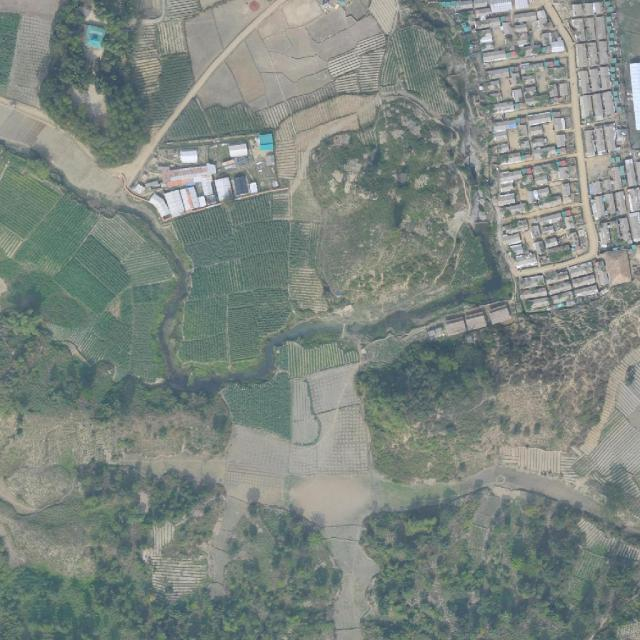agricultural_land: (191, 0, 386, 158), (173, 192, 328, 364), (254, 64, 389, 188), (203, 423, 295, 602), (367, 16, 482, 122), (126, 0, 202, 130), (289, 364, 369, 474), (162, 0, 273, 79), (469, 457, 606, 517), (0, 0, 59, 108), (329, 283, 465, 326), (359, 312, 448, 371), (323, 33, 398, 100), (259, 80, 341, 132), (258, 81, 341, 132), (496, 436, 582, 483), (279, 341, 359, 381), (184, 9, 229, 79), (372, 475, 445, 518), (460, 491, 504, 562), (356, 304, 436, 343), (162, 97, 212, 143), (270, 316, 342, 346), (204, 102, 265, 137), (318, 385, 357, 429), (0, 11, 20, 93), (500, 447, 561, 472), (571, 548, 609, 588), (290, 178, 322, 223), (368, 0, 398, 35), (443, 484, 496, 497), (271, 193, 292, 220), (284, 475, 300, 506), (448, 476, 463, 488), (340, 322, 347, 337)
building: (483, 7, 585, 270), (137, 126, 284, 221), (516, 262, 601, 316), (423, 299, 514, 340), (602, 248, 634, 287), (85, 25, 106, 50)
dryland: (300, 89, 495, 312), (71, 77, 114, 121)
greenland: (362, 490, 621, 640), (0, 260, 98, 577), (33, 0, 150, 169), (91, 369, 233, 465), (224, 372, 292, 439), (616, 0, 640, 92), (596, 503, 640, 547), (71, 410, 99, 464), (595, 477, 631, 514), (87, 405, 110, 461), (93, 360, 116, 397), (73, 397, 97, 419), (629, 102, 640, 146)
unmetalled_road: (143, 0, 286, 149), (517, 260, 555, 278), (551, 258, 577, 268)
